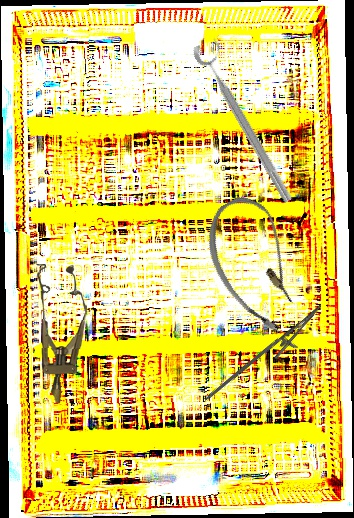Cannula: (189, 187, 323, 342)
Fixation Ring: (190, 35, 306, 206)
Needle Holder: (203, 293, 330, 421)
Speculum: (30, 264, 89, 404)
